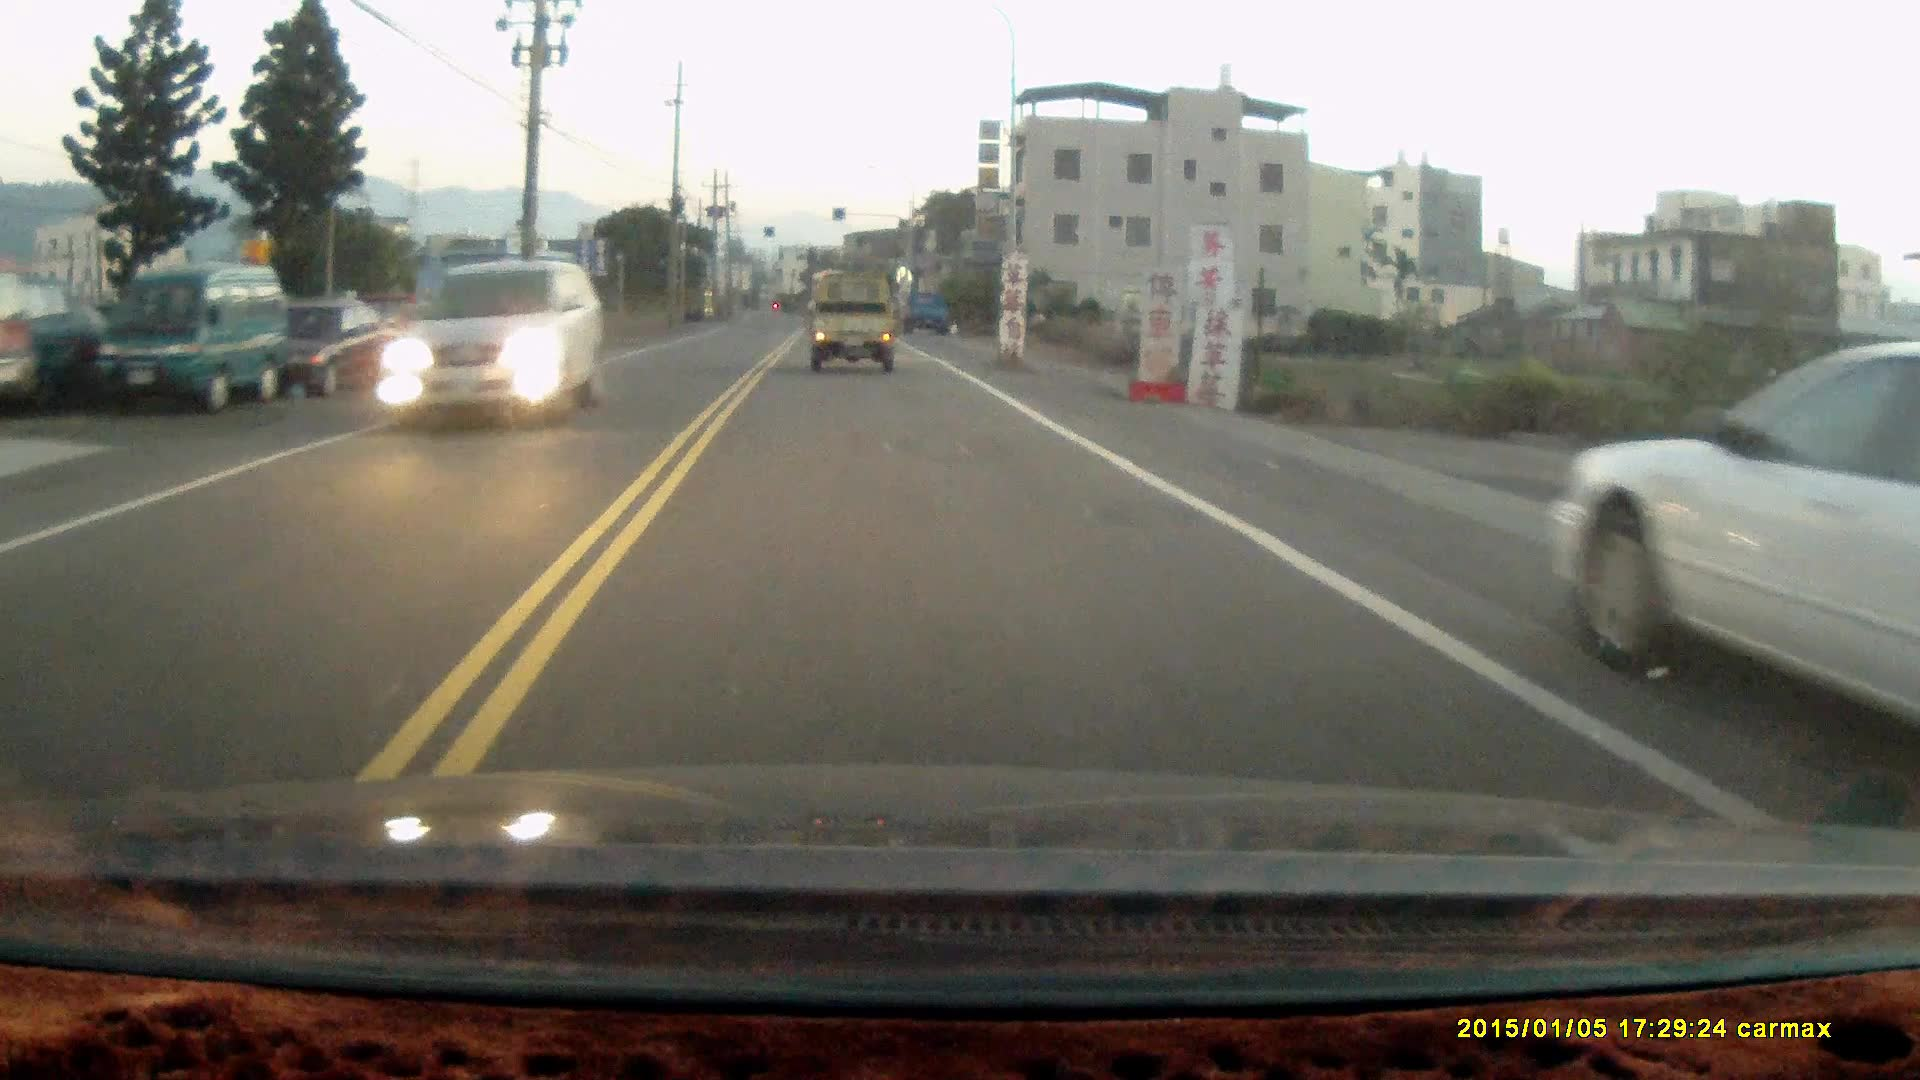vehicle: (1549, 345, 1920, 744), (389, 261, 603, 444), (90, 258, 286, 407), (268, 291, 407, 406), (808, 276, 902, 373), (901, 291, 953, 336)
